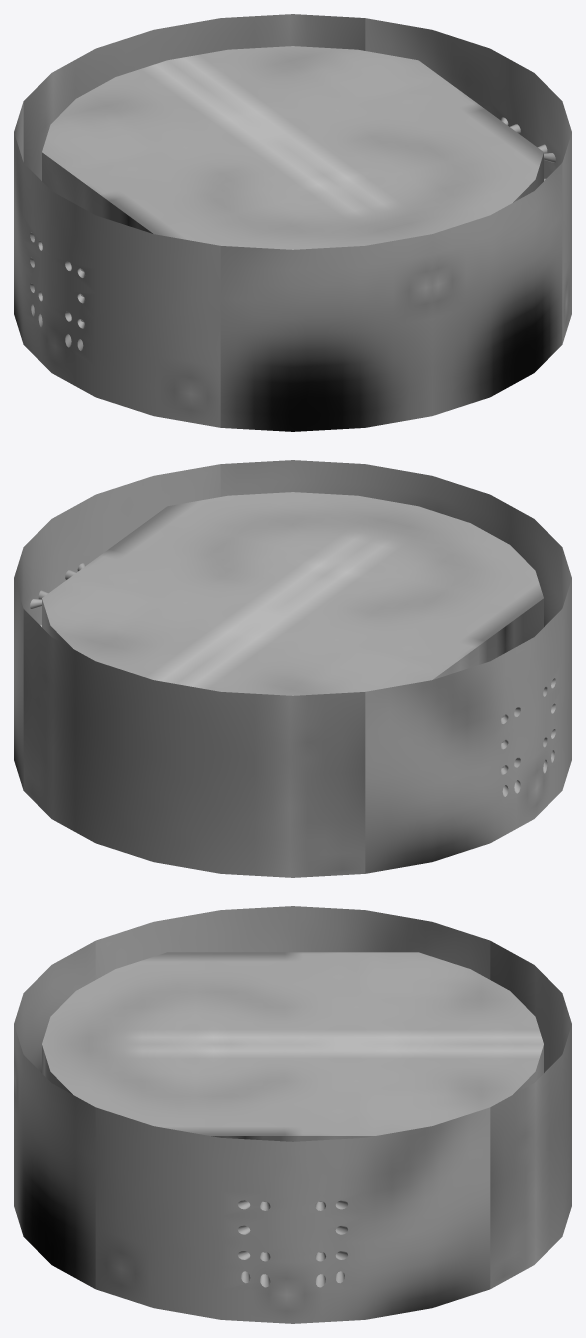
Rendered from engine_bay.fbx.
3 views of the same model, one above another, from view 1: azimuth 30°, elevation 25°; view 2: azimuth 150°, elevation 25°; view 3: azimuth 270°, elevation 25° (orthographic).
Visible parts, largest first — view 1: mesh; view 2: mesh; view 3: mesh.
Part boxes in pixels (box(x1,y1,x2,y2)): mesh: box(14, 14, 571, 431); mesh: box(14, 460, 571, 877); mesh: box(14, 906, 571, 1323).
Size of what is drawn, in the model's own units: 2.5 by 0.9 by 2.5.
